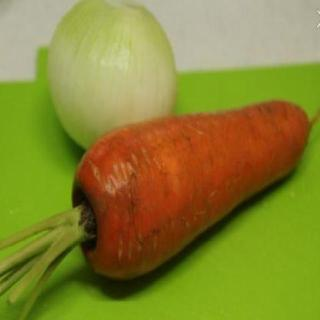carrot: (69, 101, 317, 283)
